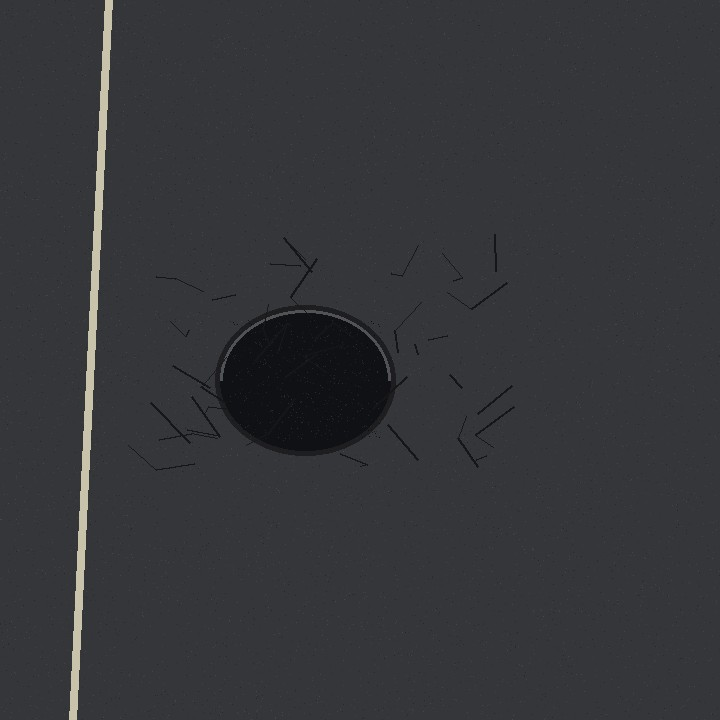D20: (150, 250, 520, 480)
D40: (270, 370, 370, 440)
